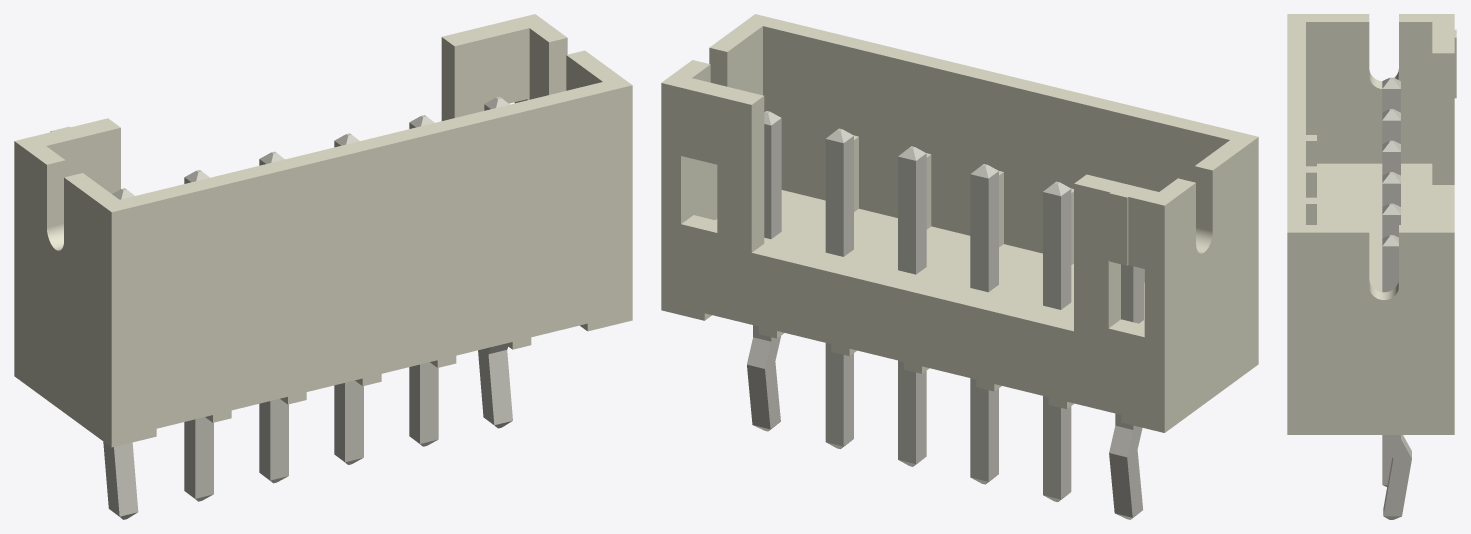
The model's file is Connector_JST__JST_PH_B6B-PH-K_1x06_P2.00mm_Vertical.glb.
The picture shows the model from 3 angles, left to right: view 1: azimuth 30°, elevation 25°; view 2: azimuth 150°, elevation 25°; view 3: azimuth 270°, elevation 25°; orthographic projection. The views are drawn at different scales.
Visible parts, largest first — view 1: JST_B6B_PH_K; view 2: JST_B6B_PH_K; view 3: JST_B6B_PH_K.
Part boxes in pixels (left/top/right/bottom): JST_B6B_PH_K: left=14, top=14, right=632, bottom=519; JST_B6B_PH_K: left=661, top=14, right=1258, bottom=519; JST_B6B_PH_K: left=1287, top=14, right=1456, bottom=519.
Bounding box in the file's own units: 0.0139 × 0.0094 × 0.00455.
